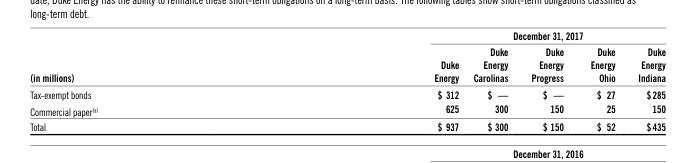table: (29, 29, 664, 132)
table column: (29, 29, 265, 132), (265, 29, 465, 132), (518, 29, 576, 132), (465, 29, 518, 132), (576, 29, 625, 132), (625, 29, 664, 132)
table column header: (29, 29, 664, 85)
table row: (29, 43, 664, 85), (29, 101, 664, 118), (29, 85, 664, 101), (29, 29, 664, 43), (29, 118, 664, 132)
table spanning cell: (29, 29, 265, 85), (265, 29, 664, 43)
